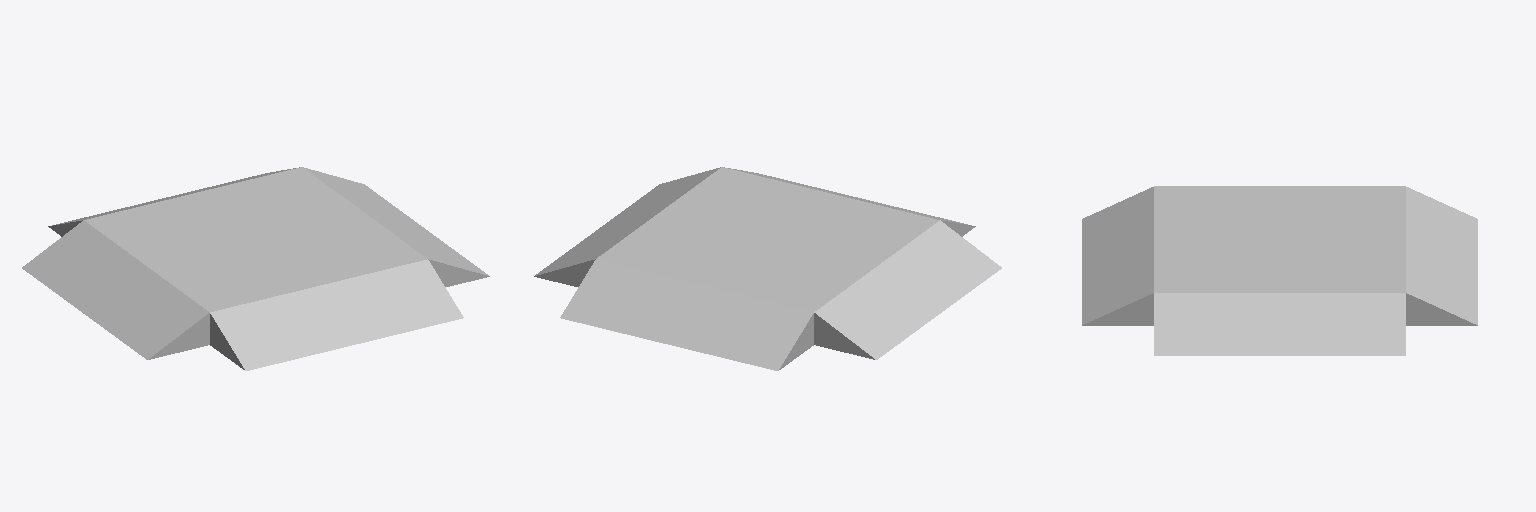
The model's file is ModelPedestal.obj.
The picture shows the model from 3 angles: view 1: azimuth 30°, elevation 25°; view 2: azimuth 150°, elevation 25°; view 3: azimuth 270°, elevation 25°; orthographic projection.
Parts seen in each view (by area): view 1: Part1, Wedge4, Wedge3, Wedge2, Wedge1; view 2: Part1, Wedge1, Wedge3, Wedge2, Wedge4; view 3: Part1, Wedge2, Wedge1, Wedge4.
Part boxes in pixels (left/top/right/bottom): Part1: left=84, top=167, right=426, bottom=311; Wedge4: left=210, top=259, right=463, bottom=370; Wedge3: left=22, top=220, right=209, bottom=359; Wedge2: left=303, top=167, right=489, bottom=286; Wedge1: left=48, top=167, right=299, bottom=236; Part1: left=597, top=167, right=939, bottom=311; Wedge1: left=560, top=259, right=813, bottom=370; Wedge3: left=814, top=220, right=1001, bottom=359; Wedge2: left=534, top=167, right=720, bottom=286; Wedge4: left=724, top=167, right=975, bottom=236; Part1: left=1154, top=186, right=1405, bottom=292; Wedge2: left=1154, top=293, right=1405, bottom=355; Wedge1: left=1406, top=187, right=1477, bottom=325; Wedge4: left=1082, top=187, right=1153, bottom=325.
Size of the model in its own units: 11 by 1 by 11.